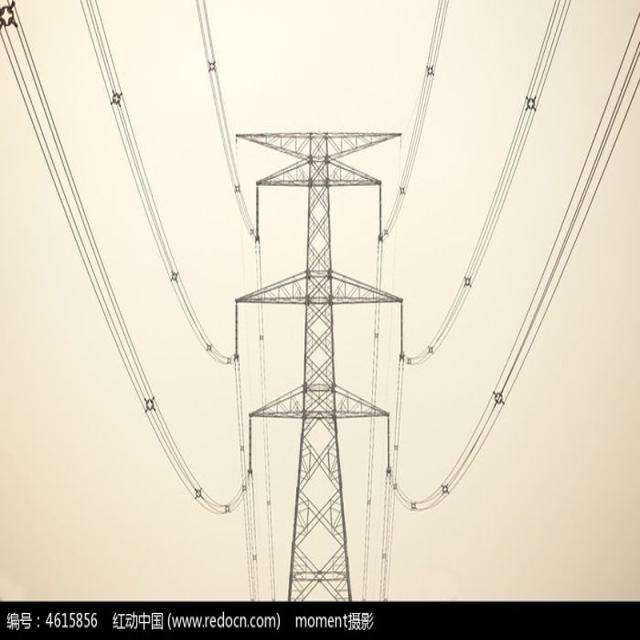non-critical vegetation: (228, 107, 394, 597)
